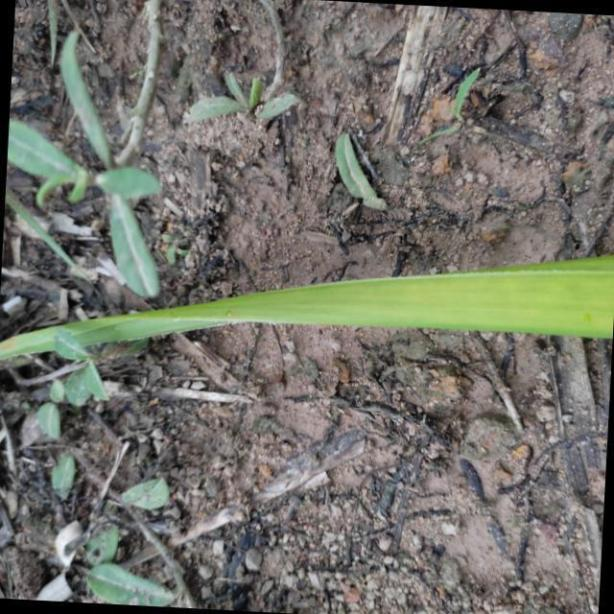nitrogen: (14, 261, 614, 334)
